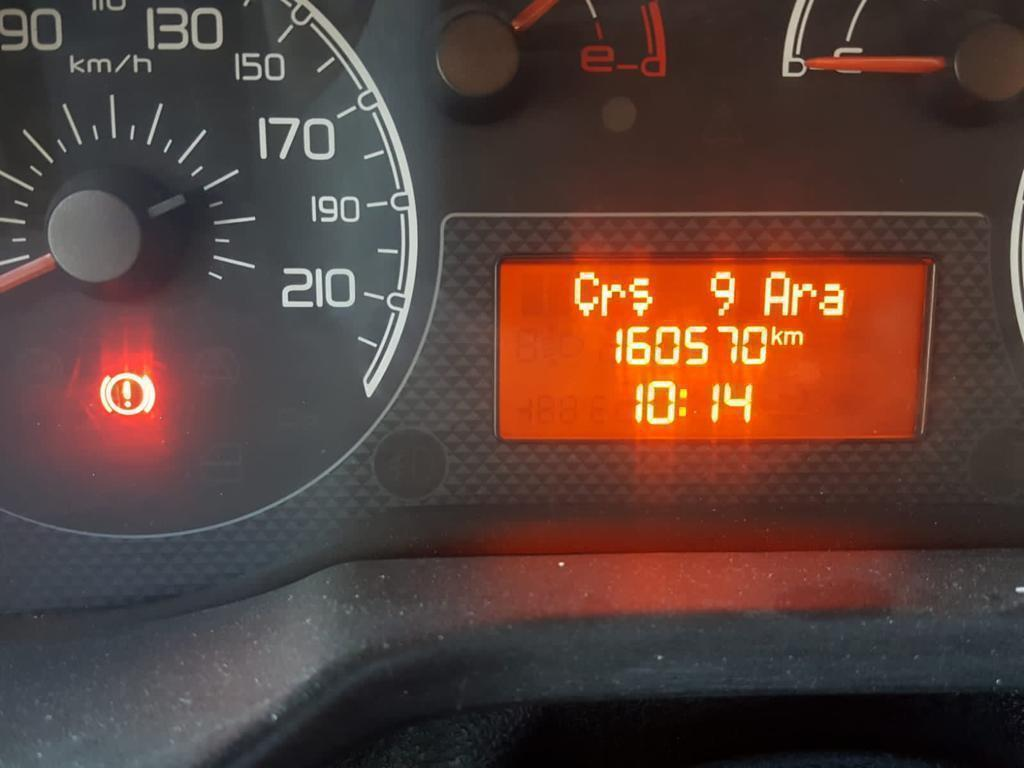0: (646, 379, 676, 426), (654, 324, 682, 365), (741, 325, 767, 365)
1: (709, 380, 720, 424), (633, 381, 644, 425), (614, 324, 624, 366)
4: (721, 379, 754, 423)
5: (684, 324, 710, 366)
6: (626, 324, 651, 365)
7: (715, 324, 739, 366)
9: (709, 270, 736, 317)
X: (571, 269, 599, 317), (764, 270, 789, 315), (628, 275, 654, 315), (818, 282, 844, 317), (601, 282, 626, 317), (791, 283, 816, 316), (677, 385, 688, 418), (784, 329, 804, 346), (770, 325, 783, 345)
odometer: (490, 250, 941, 447)
